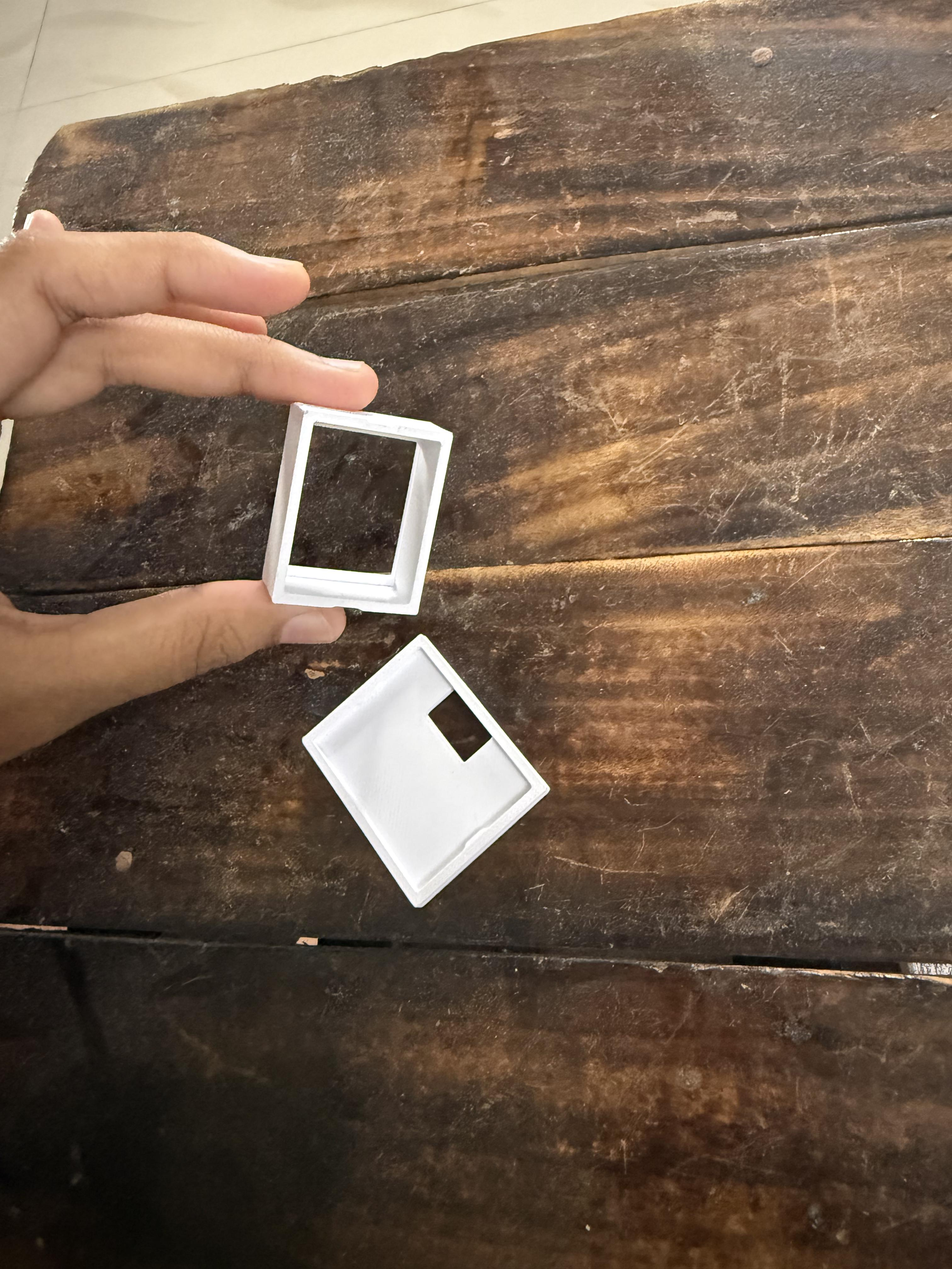enclosure: (301, 633, 551, 908), (262, 402, 454, 616)
